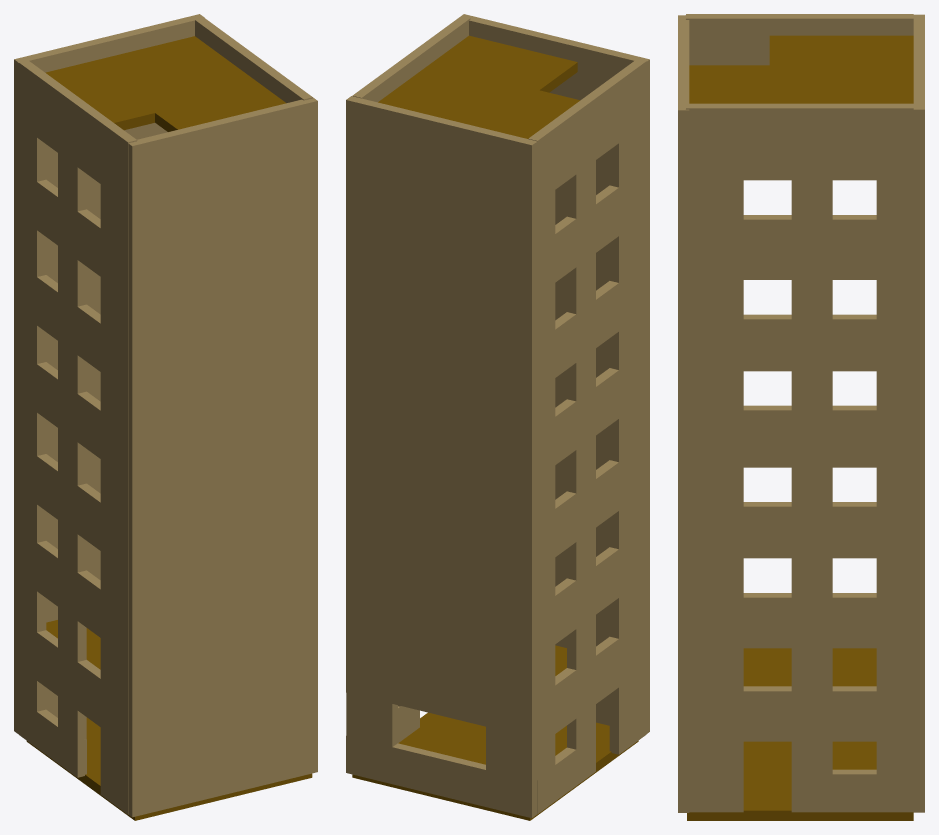
The model's file is Tower.fbx.
The picture shows the model from 3 angles, left to right: view 1: azimuth 30°, elevation 25°; view 2: azimuth 150°, elevation 25°; view 3: azimuth 270°, elevation 25°; orthographic projection. The views are drawn at different scales.
Visible parts, largest first — view 1: Cube, Cube__16_, Cube__31_, Cube__30_, Cube__4_, Cube__32_, Cube__29_, Cube__28_, Cube__26_, Cube__17_, Cube__27_, Cube__25_ (+6 smaller); view 2: Cube__4_, Cube__16_, Cube, Cube__30_, Cube__31_, Cube__32_, Cube__3_, Cube__29_, Cube__24_, Cube__25_, Cube__28_, Cube__27_ (+9 smaller); view 3: Cube__11_, Cube__9_, Cube__10_, Cube__23_, Cube__8_, Cube__21_, Cube__20_, Cube__22_, Cube__32_, Cube, Cube__18_, Cube__19_ (+15 smaller).
Part boxes in pixels (x1=…): Cube: x1=128, y1=97, x2=317, y2=817; Cube__16_: x1=100, y1=123, x2=136, y2=814; Cube__31_: x1=17, y1=62, x2=46, y2=713; Cube__30_: x1=58, y1=93, x2=86, y2=743; Cube__4_: x1=14, y1=14, x2=204, y2=652; Cube__32_: x1=45, y1=36, x2=263, y2=130; Cube__29_: x1=19, y1=60, x2=137, y2=202; Cube__28_: x1=19, y1=169, x2=127, y2=296; Cube__26_: x1=19, y1=351, x2=127, y2=478; Cube__17_: x1=19, y1=620, x2=127, y2=746; Cube__27_: x1=19, y1=265, x2=127, y2=391; Cube__25_: x1=19, y1=443, x2=127, y2=570; Cube__4_: x1=346, y1=96, x2=536, y2=735; Cube__16_: x1=609, y1=66, x2=646, y2=754; Cube: x1=461, y1=14, x2=649, y2=733; Cube__30_: x1=567, y1=98, x2=595, y2=750; Cube__31_: x1=535, y1=129, x2=555, y2=781; Cube__32_: x1=378, y1=63, x2=579, y2=138; Cube__3_: x1=346, y1=736, x2=537, y2=818; Cube__29_: x1=528, y1=59, x2=646, y2=201; Cube__24_: x1=537, y1=529, x2=646, y2=656; Cube__25_: x1=537, y1=442, x2=646, y2=569; Cube__28_: x1=537, y1=168, x2=646, y2=294; Cube__27_: x1=537, y1=263, x2=646, y2=390; Cube__11_: x1=685, y1=105, x2=743, y2=812; Cube__9_: x1=791, y1=108, x2=832, y2=774; Cube__10_: x1=876, y1=109, x2=913, y2=774; Cube__23_: x1=686, y1=103, x2=913, y2=173; Cube__8_: x1=689, y1=686, x2=913, y2=741; Cube__21_: x1=689, y1=314, x2=913, y2=369; Cube__20_: x1=689, y1=405, x2=913, y2=460; Cube__22_: x1=689, y1=215, x2=913, y2=270; Cube__32_: x1=769, y1=35, x2=913, y2=103; Cube: x1=678, y1=15, x2=689, y2=812; Cube__18_: x1=689, y1=593, x2=913, y2=648; Cube__19_: x1=689, y1=502, x2=913, y2=557.
Size of the model in its own units: 1002 by 3502 by 1100.
